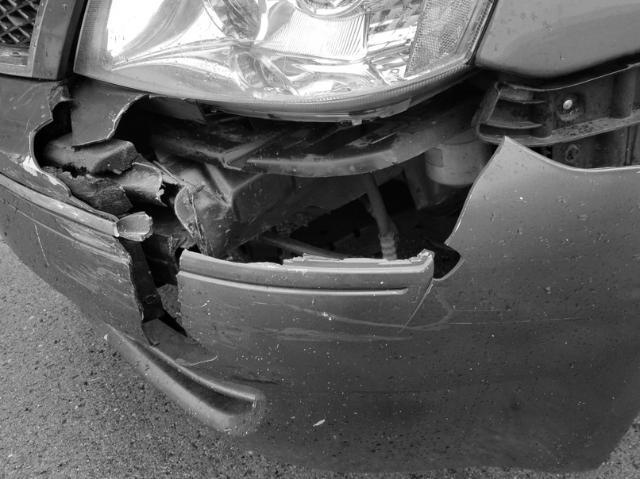Bumper: (0, 41, 640, 468)
